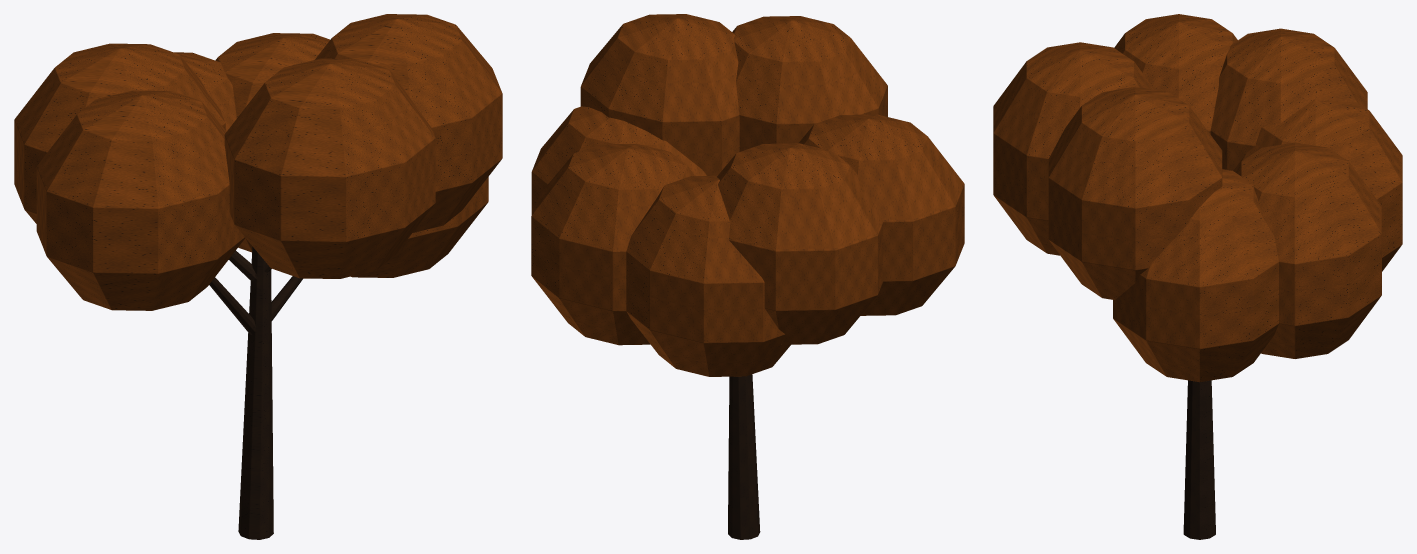
The model's file is PROP-33F2FF54F9EC_lod1.glb.
3 renders of one model, left to right at view 1: azimuth 30°, elevation 25°; view 2: azimuth 150°, elevation 25°; view 3: azimuth 270°, elevation 25°, orthographic. The views are drawn at different scales.
Visible parts, largest first — view 1: leaf_crown.087, trunk.079, branch.051; view 2: leaf_crown.087, trunk.079; view 3: leaf_crown.087, trunk.079.
Part boxes in pixels (x1,y1,x2,y2): leaf_crown.087: [14, 14, 502, 310]; trunk.079: [238, 246, 273, 539]; branch.051: [209, 250, 302, 335]; leaf_crown.087: [531, 14, 964, 376]; trunk.079: [728, 374, 760, 539]; leaf_crown.087: [993, 14, 1402, 382]; trunk.079: [1183, 380, 1215, 539].
Bounding box in the file's own units: 6.87 × 7.6 × 5.78.
2 materials, 2 textured.
